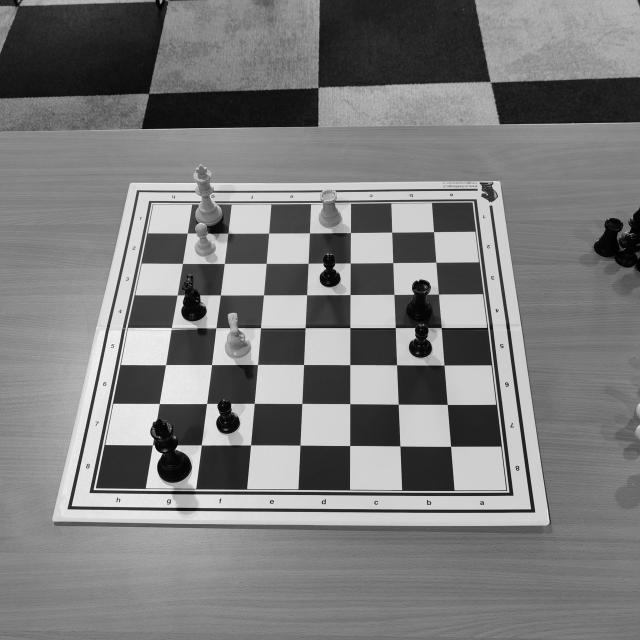chessboard: (91, 202, 509, 493)
